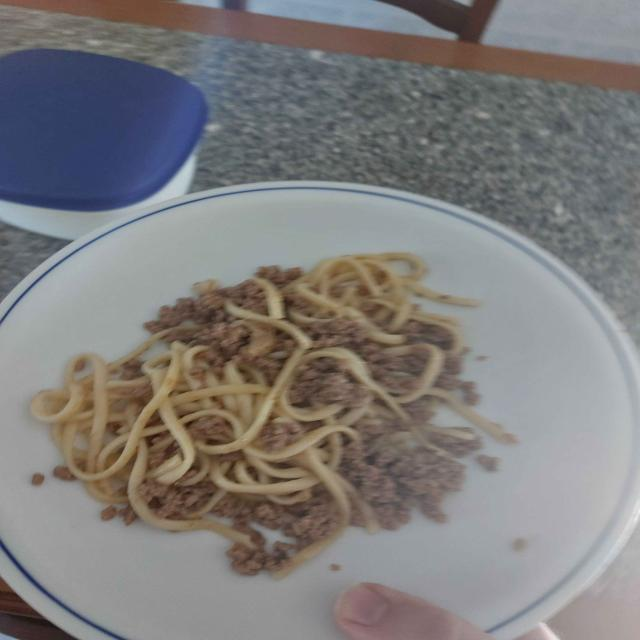minced meat: (145, 281, 293, 382), (337, 416, 464, 531), (209, 484, 342, 576), (140, 476, 218, 521), (291, 360, 340, 405), (264, 424, 299, 449)
pasta: (32, 253, 514, 579)
plate: (0, 182, 640, 640)
